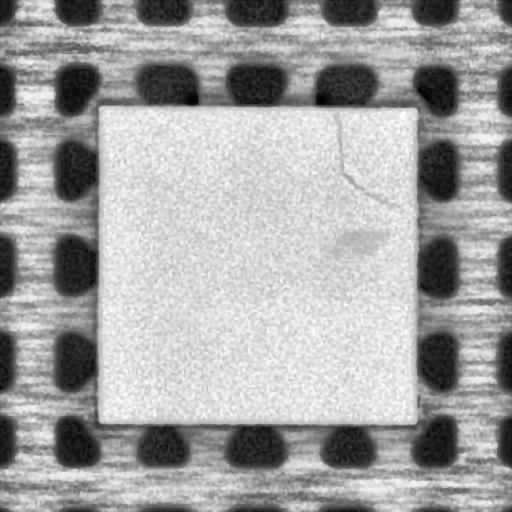DIE_CRACK: (331, 112, 398, 207)
